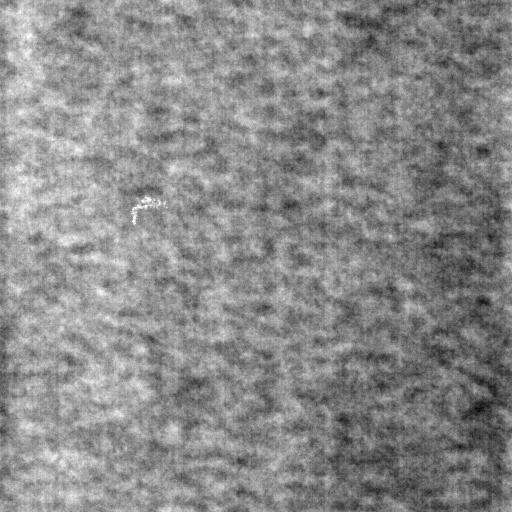DefectTypeA: (133, 194, 168, 223)
